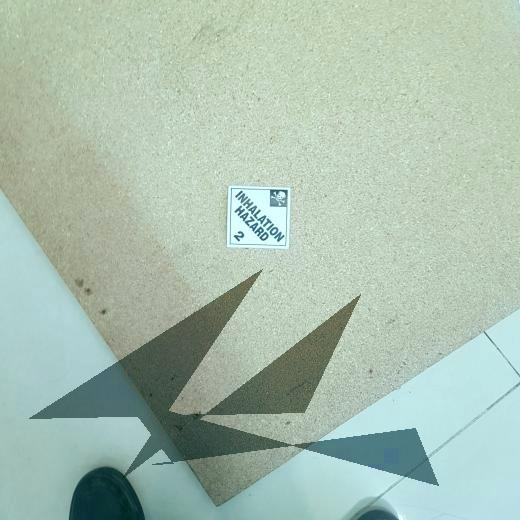poison: (227, 186, 290, 250)
